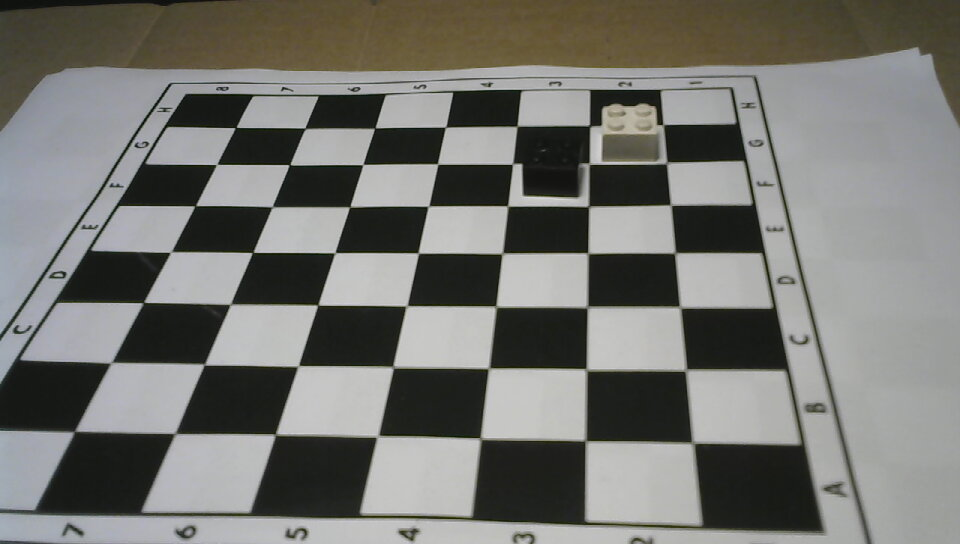wp: (597, 100, 661, 165)
